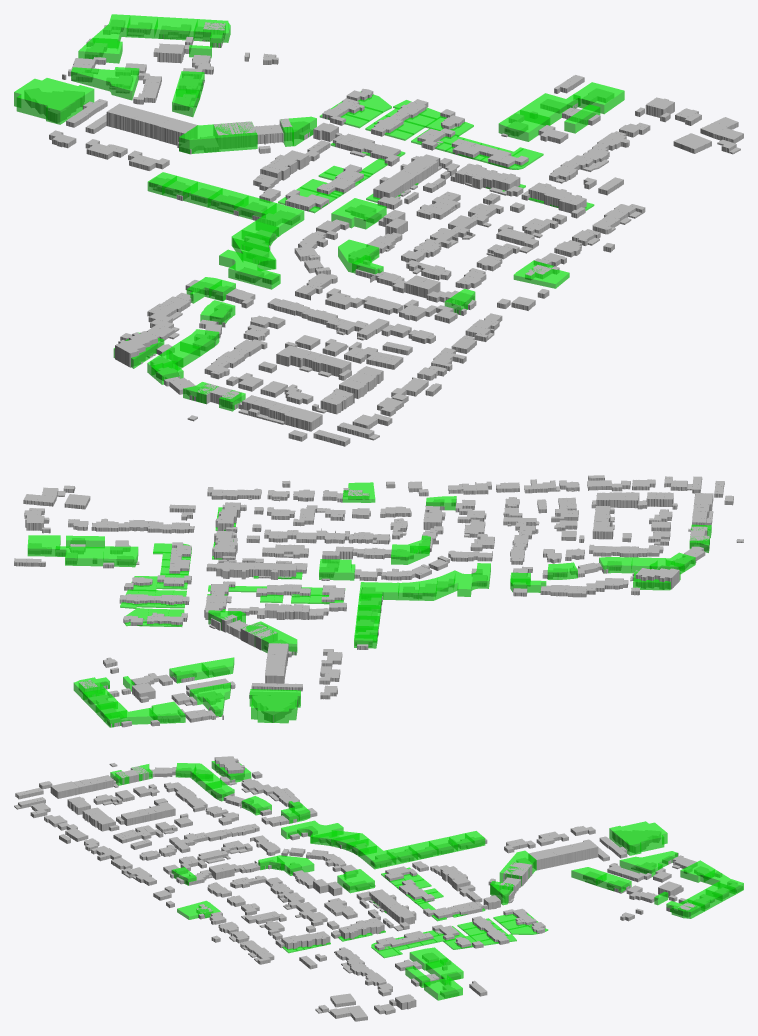
The model's file is CityGML_XPlanVergleich.glb.
The picture shows the model from 3 angles, top to bottom: view 1: azimuth 30°, elevation 25°; view 2: azimuth 150°, elevation 25°; view 3: azimuth 270°, elevation 25°; orthographic projection. The views are drawn at different scales.
Size of the model in its own units: 476 by 9 by 569.
